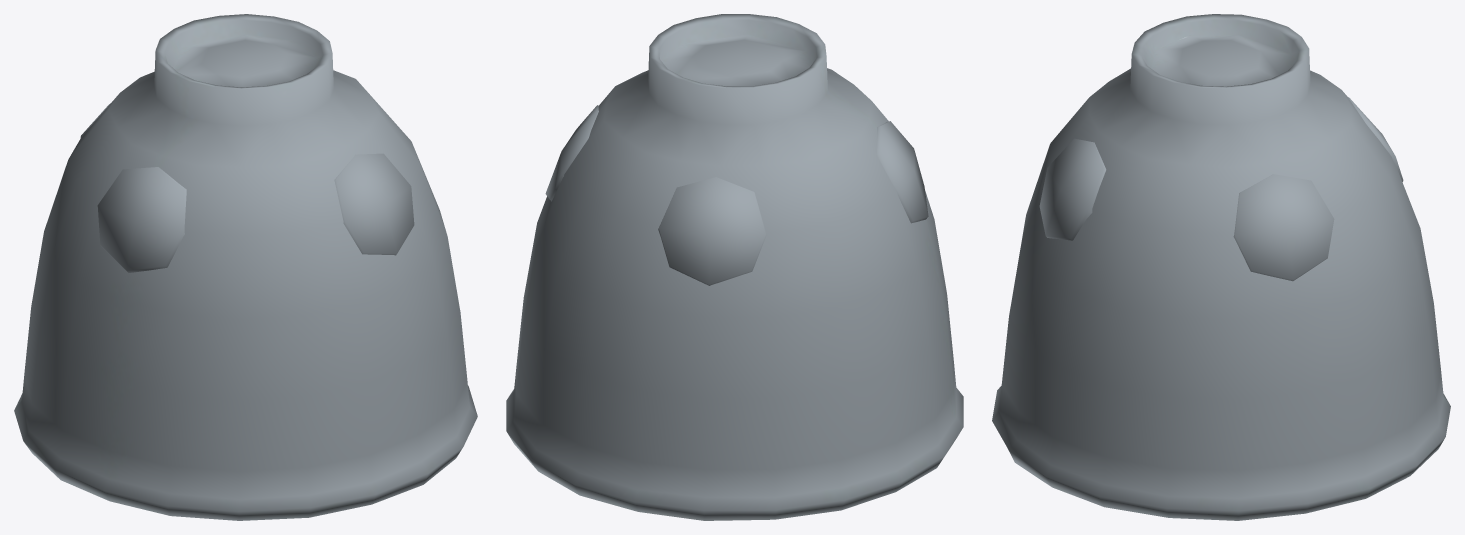
File: FanHuiCang.FBX
The picture shows the model from 3 angles, left to right: view 1: azimuth 30°, elevation 25°; view 2: azimuth 150°, elevation 25°; view 3: azimuth 270°, elevation 25°; orthographic projection.
Visible parts, largest first — view 1: FanHuiCang; view 2: FanHuiCang; view 3: FanHuiCang.
Part boxes in pixels (<box>): FanHuiCang: <box>14,14,477,520</box>; FanHuiCang: <box>506,14,963,520</box>; FanHuiCang: <box>992,14,1450,520</box>.
Size of the model in its own units: 79.15 by 74.26 by 78.8.
